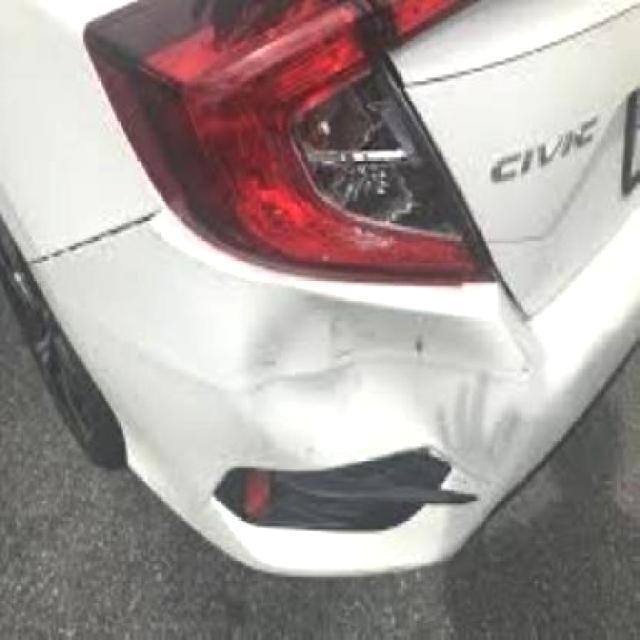minor: (225, 285, 532, 466)
